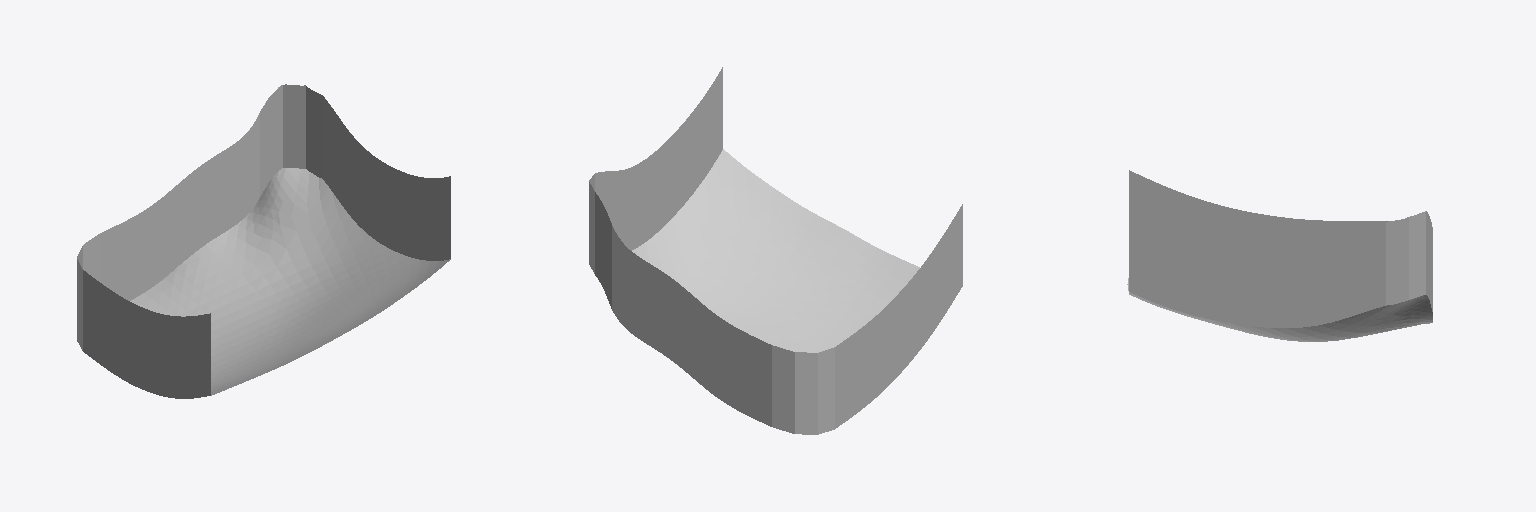
The model's file is fix_pocket.obj.
The picture shows the model from 3 angles: view 1: azimuth 30°, elevation 25°; view 2: azimuth 150°, elevation 25°; view 3: azimuth 270°, elevation 25°; orthographic projection.
Visible parts, largest first — view 1: shirt_dots09; view 2: shirt_dots09; view 3: shirt_dots09.
Boxes of the visible parts, x1,y1,x2,y2 form: shirt_dots09: [77, 84, 450, 398]; shirt_dots09: [589, 67, 962, 434]; shirt_dots09: [1127, 170, 1432, 341].
Size of the model in its own units: 8.61 by 7.26 by 9.49.